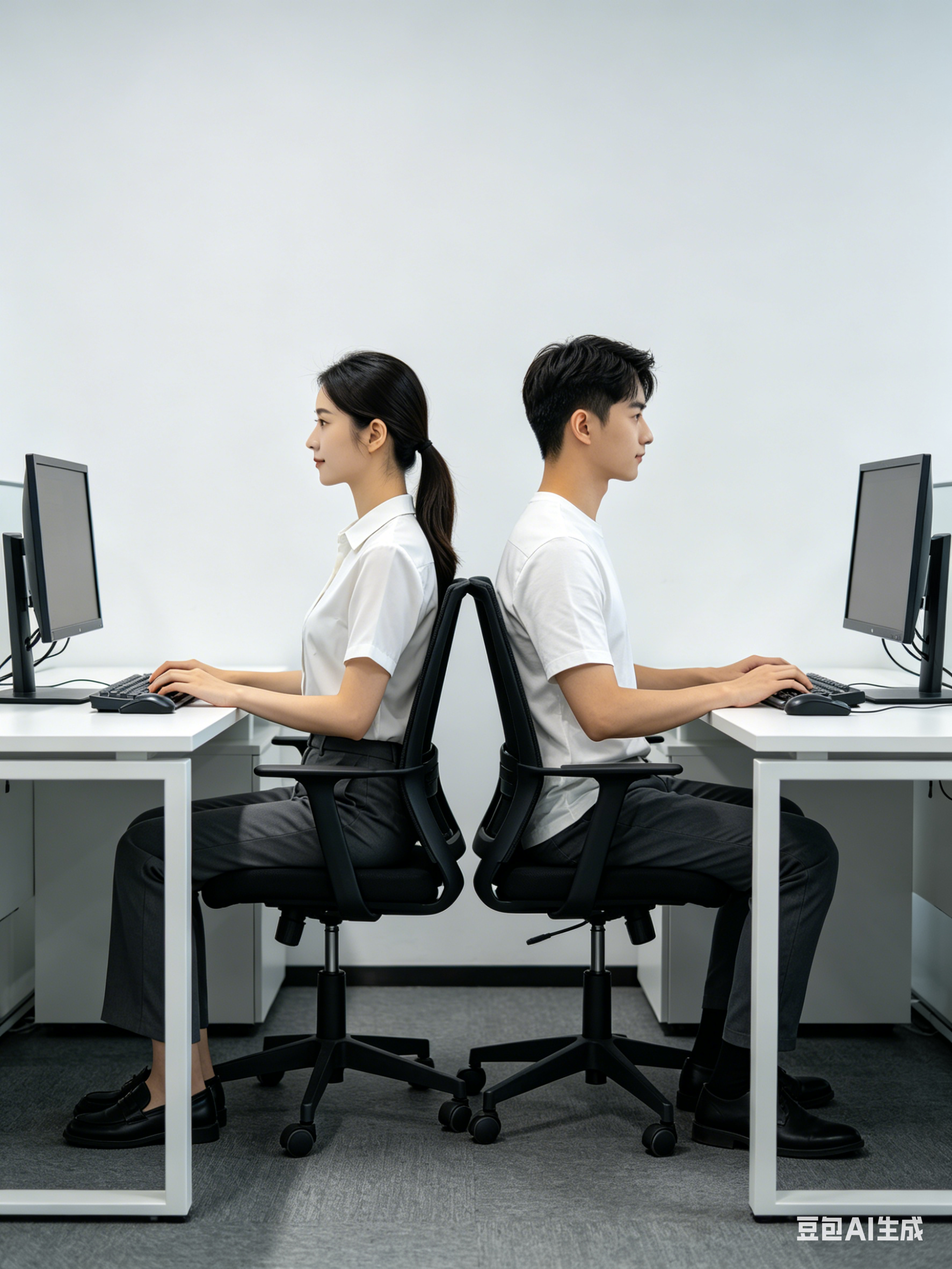sitting_good: (80, 360, 500, 1099), (487, 328, 823, 1182)
